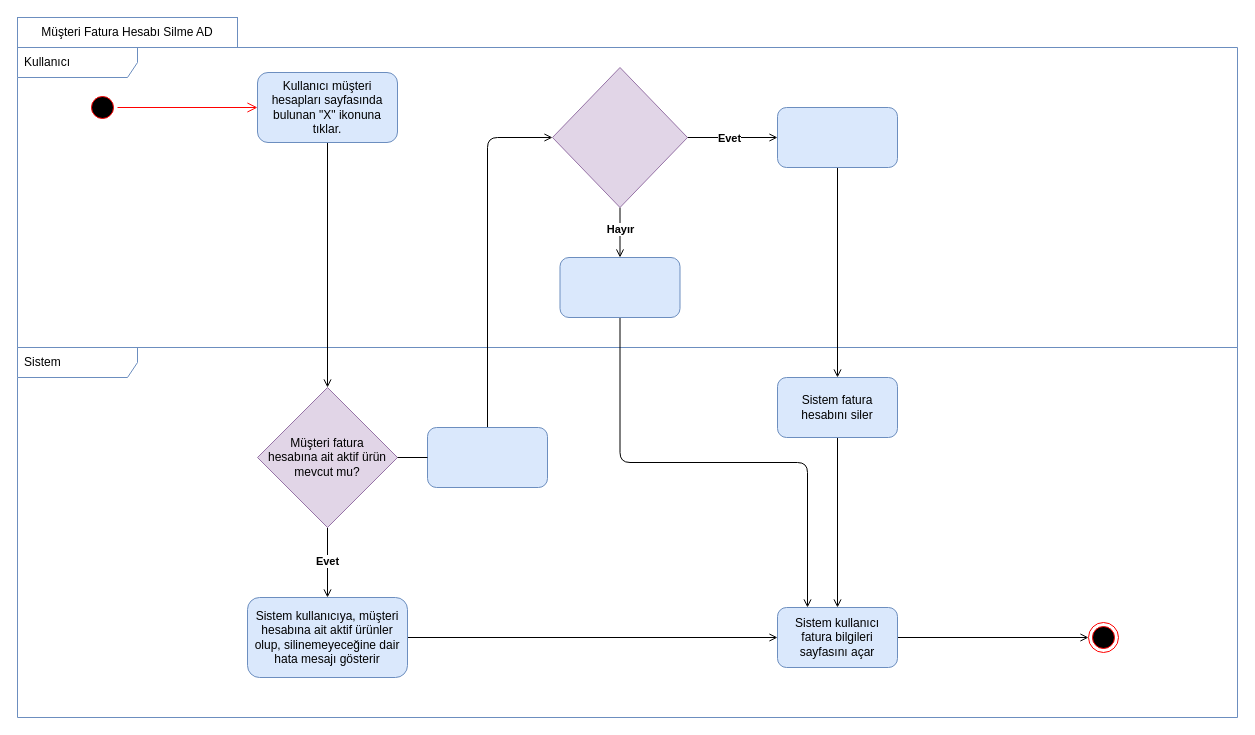
The diagram is 1255 pixels wide and 735 high, and some of its shapes have lost their labels. The shapes that lost their labels are listed below. From the top down, each one's centre as x and y in pixels, then its label:
point (620, 137): Kullanıcı müşteriyi silmek istiyor mu?
point (837, 137): Kullanıcı sil butonuna tıklar
point (619, 287): Kullanıcı vazgeç butonuna tıklar
point (487, 457): Sistem kullanıcıya fatura hesabını silmek ister misiniz mesajını gösterir
